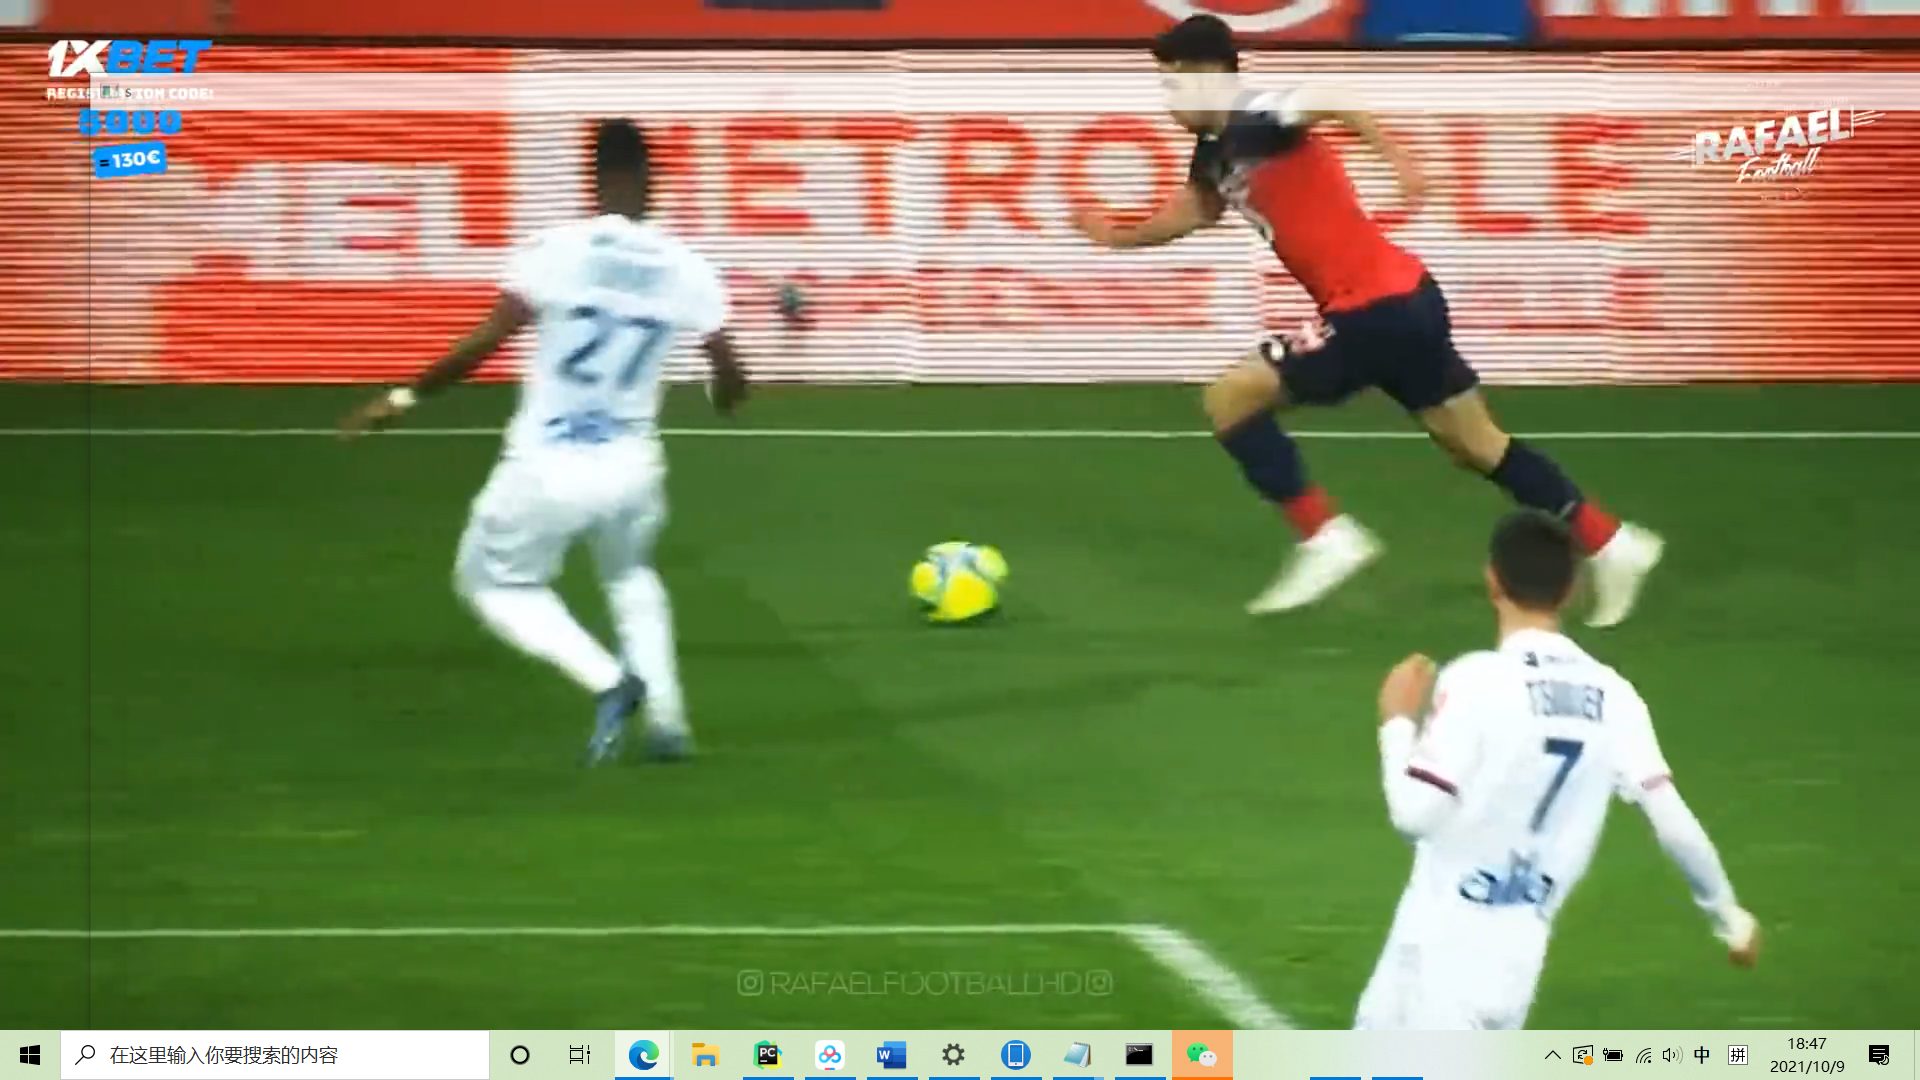ft: (907, 525, 1009, 634)
